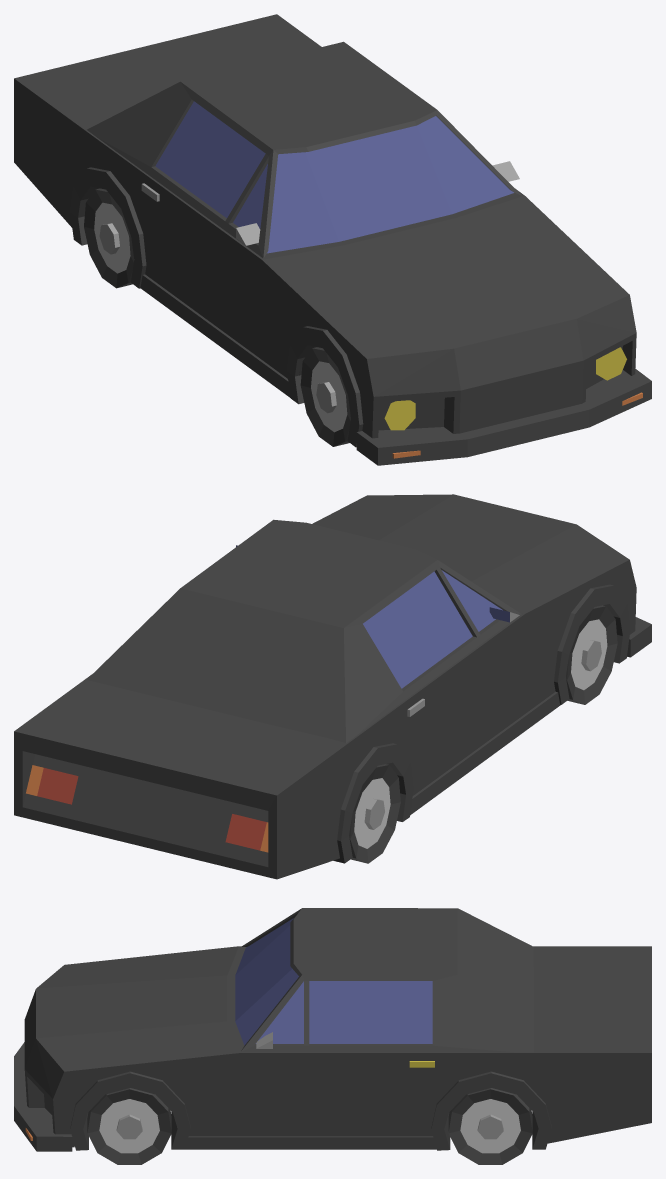
The model's file is transport_sport_006.glb.
3 renders of one model, top to bottom at view 1: azimuth 30°, elevation 25°; view 2: azimuth 150°, elevation 25°; view 3: azimuth 270°, elevation 25°, orthographic. The views are drawn at different scales.
Visible parts, largest first — view 1: transport_sport_006; view 2: transport_sport_006; view 3: transport_sport_006.
Boxes of the visible parts, x1,y1,x2,y2 form: transport_sport_006: (14,14,651,465); transport_sport_006: (14,494,651,879); transport_sport_006: (14,908,651,1164).
Bounding box in the file's own units: 1.63 × 1.15 × 3.94.
Materials: 1 (1 with a texture image).
